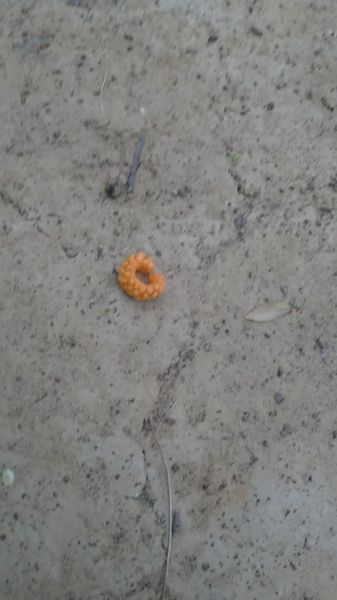eggs: (115, 246, 172, 306)
